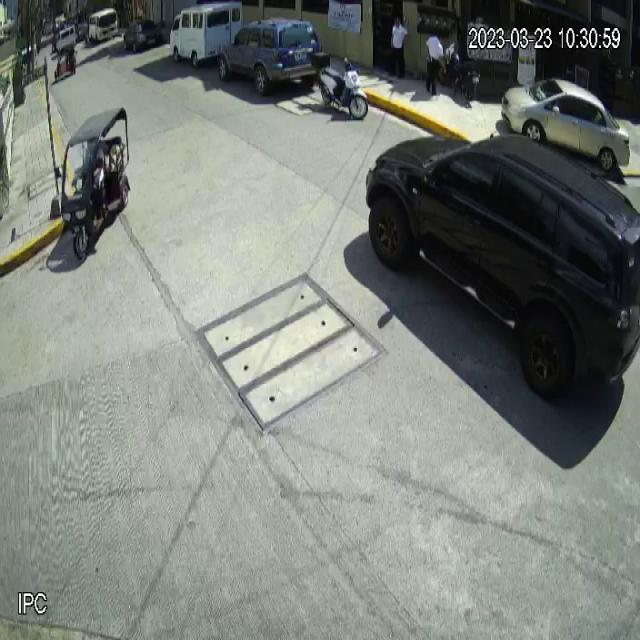Car: (365, 133, 640, 405), (500, 80, 630, 172), (217, 18, 323, 96)
Motorcycle: (310, 50, 369, 119)
Van: (170, 3, 242, 68)
